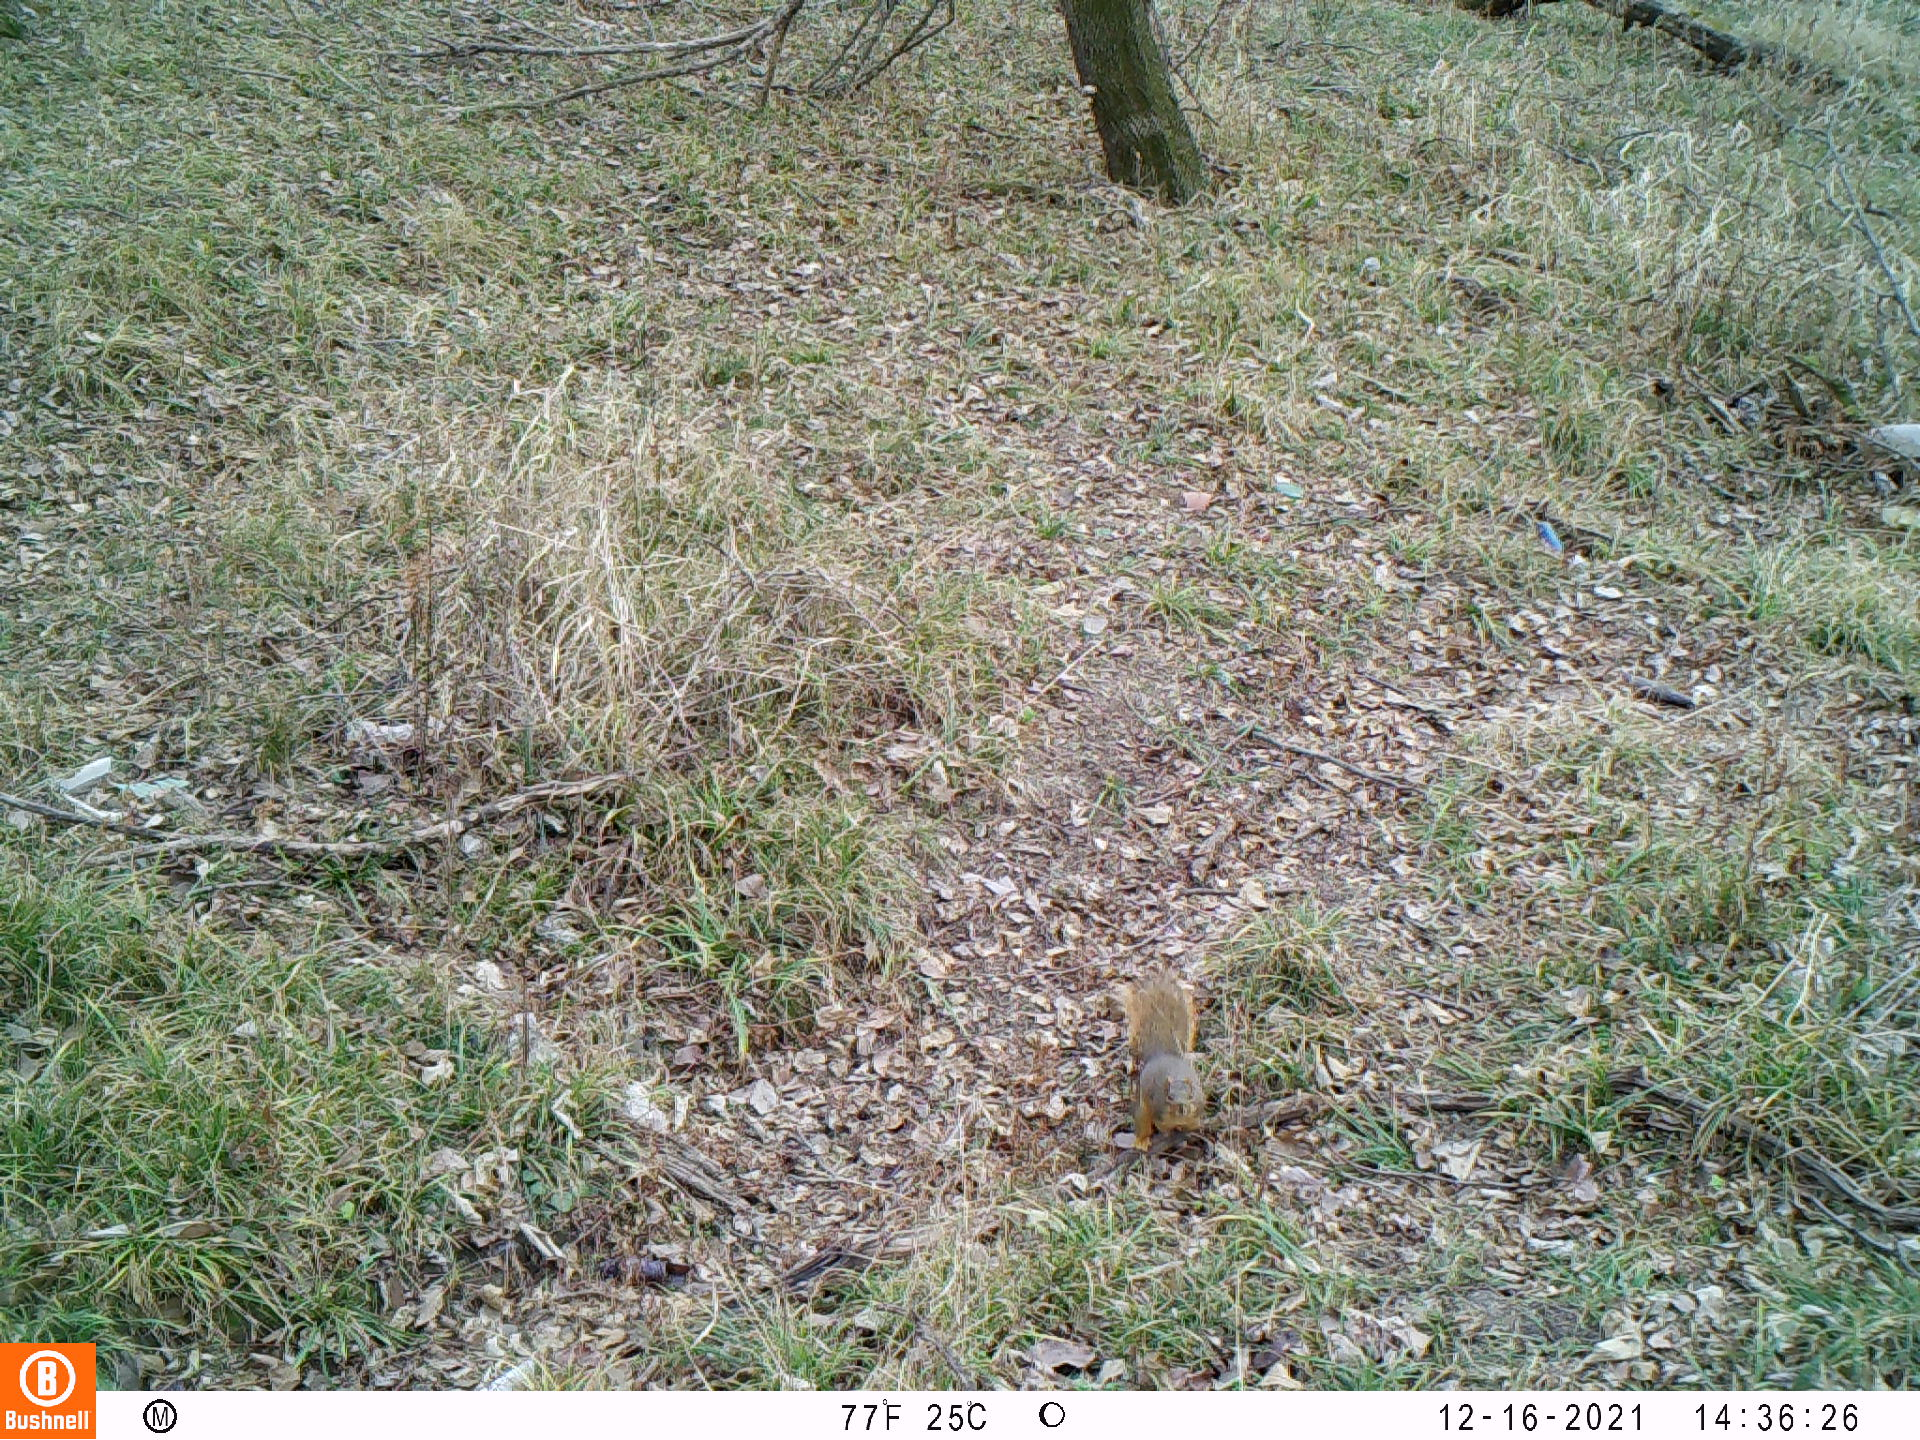Squirrel: (1125, 965, 1205, 1145)
